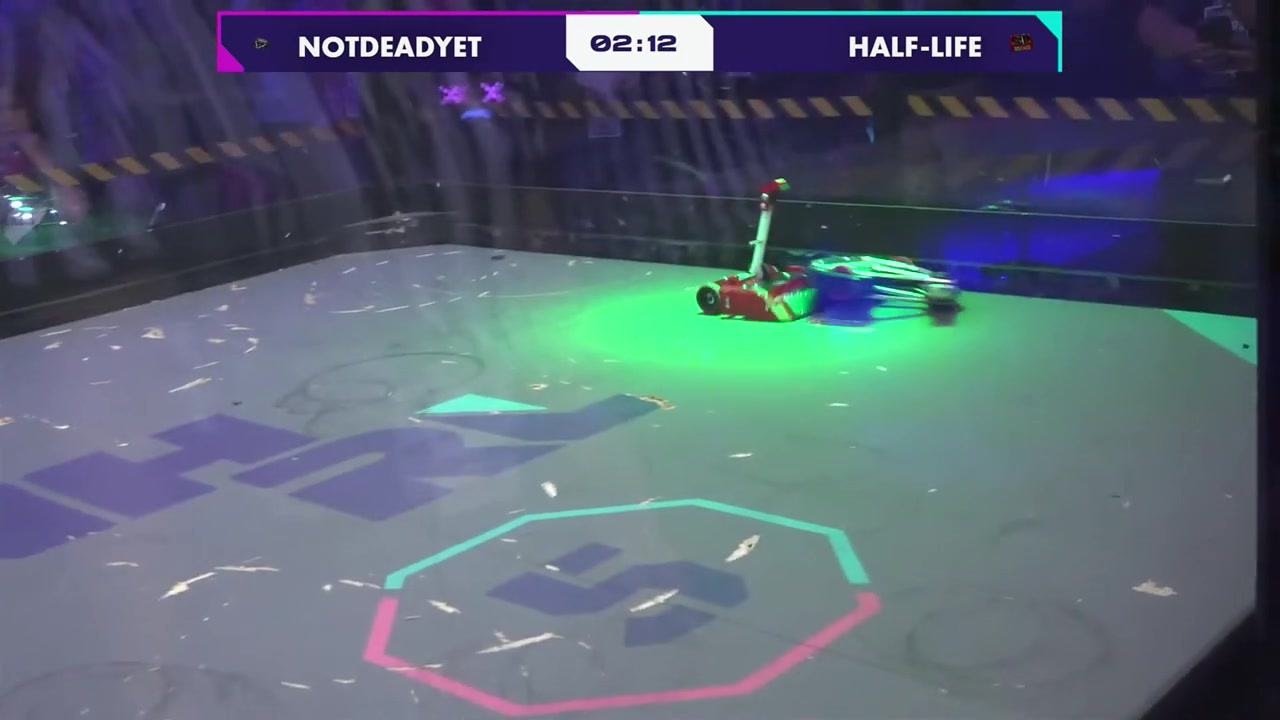combatbot: (696, 176, 819, 324), (809, 248, 966, 325)
